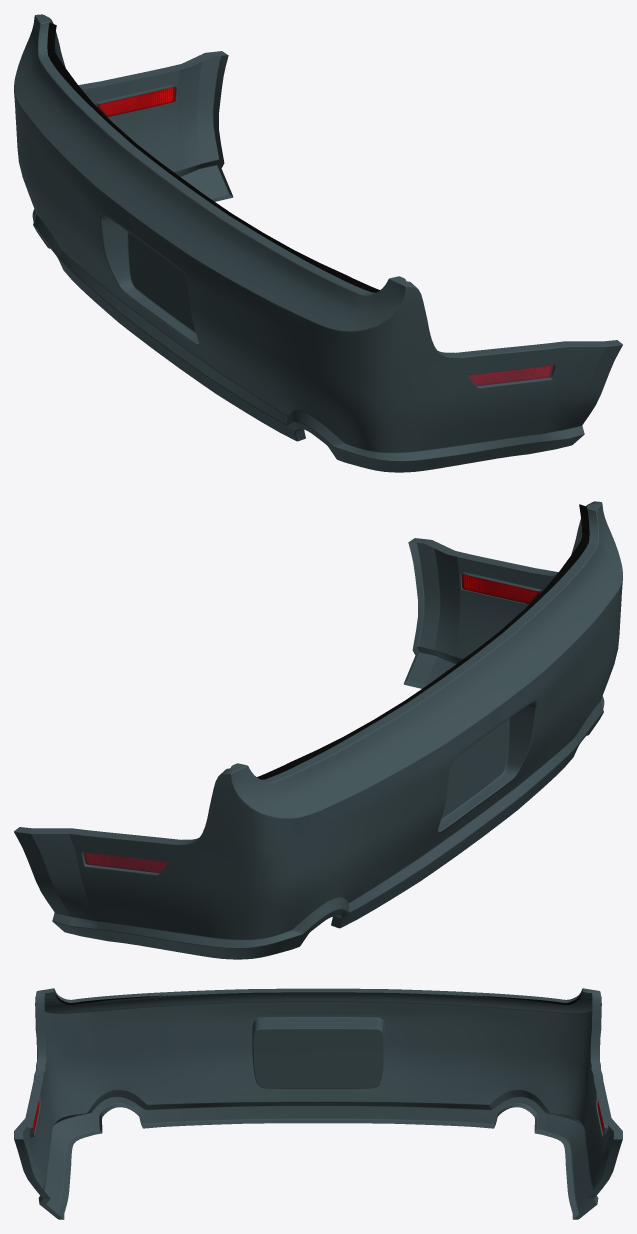
3 renders of one model, top to bottom at view 1: azimuth 30°, elevation 25°; view 2: azimuth 150°, elevation 25°; view 3: azimuth 270°, elevation 25°, orthographic. The views are drawn at different scales.
Visible parts, largest first — view 1: P222_15_561G_C_1_DaS_P222_15_561G_C, P222_15_561G_C_P222_15_561G_C_5_D, P222_15_561G_C_P222_15_561G_C_2_N, P222_15_561G_C_P222_15_561G_C_4_DTaSI; view 2: P222_15_561G_C_1_DaS_P222_15_561G_C, P222_15_561G_C_P222_15_561G_C_5_D, P222_15_561G_C_P222_15_561G_C_2_N, P222_15_561G_C_P222_15_561G_C_3_DTaSI; view 3: P222_15_561G_C_1_DaS_P222_15_561G_C, P222_15_561G_C_P222_15_561G_C_5_D.
Boxes of the visible parts, x1,y1,x2,y2 form: P222_15_561G_C_1_DaS_P222_15_561G_C: [14, 14, 622, 472]; P222_15_561G_C_P222_15_561G_C_5_D: [47, 22, 379, 292]; P222_15_561G_C_P222_15_561G_C_2_N: [96, 87, 553, 385]; P222_15_561G_C_P222_15_561G_C_4_DTaSI: [468, 365, 553, 385]; P222_15_561G_C_1_DaS_P222_15_561G_C: [14, 501, 622, 959]; P222_15_561G_C_P222_15_561G_C_5_D: [257, 504, 589, 779]; P222_15_561G_C_P222_15_561G_C_2_N: [83, 574, 540, 872]; P222_15_561G_C_P222_15_561G_C_3_DTaSI: [83, 852, 168, 872]; P222_15_561G_C_1_DaS_P222_15_561G_C: [14, 988, 622, 1219]; P222_15_561G_C_P222_15_561G_C_5_D: [54, 991, 581, 1004].
Bounding box in the file's own units: 70.45 × 52.03 × 174.
